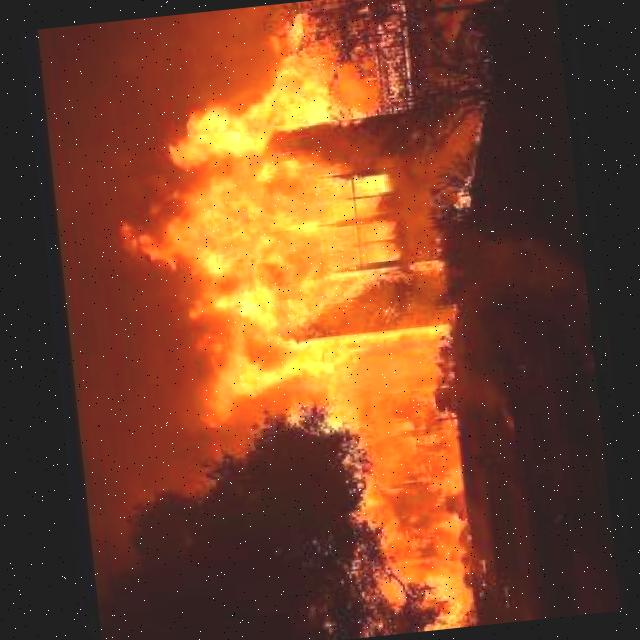fire: (115, 12, 434, 431), (339, 352, 473, 628)
